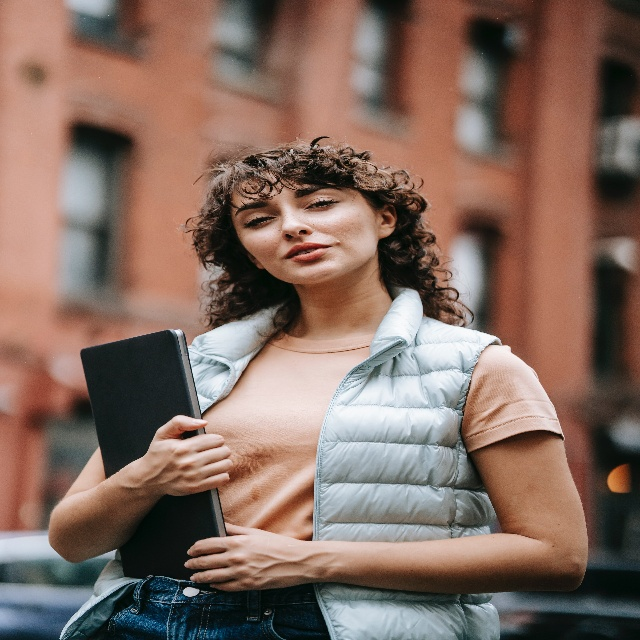Sin_guantes: (184, 521, 308, 592), (145, 414, 233, 498)
